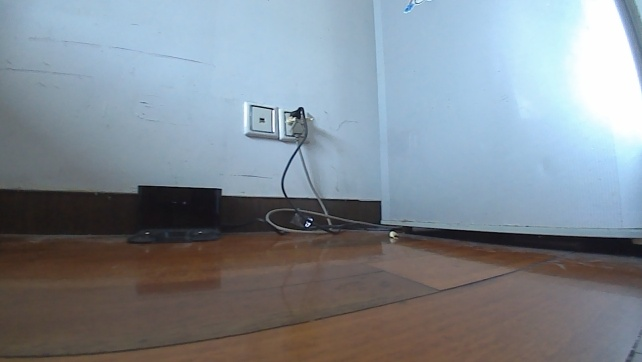charger: (122, 181, 225, 245)
wire: (218, 107, 405, 236)
